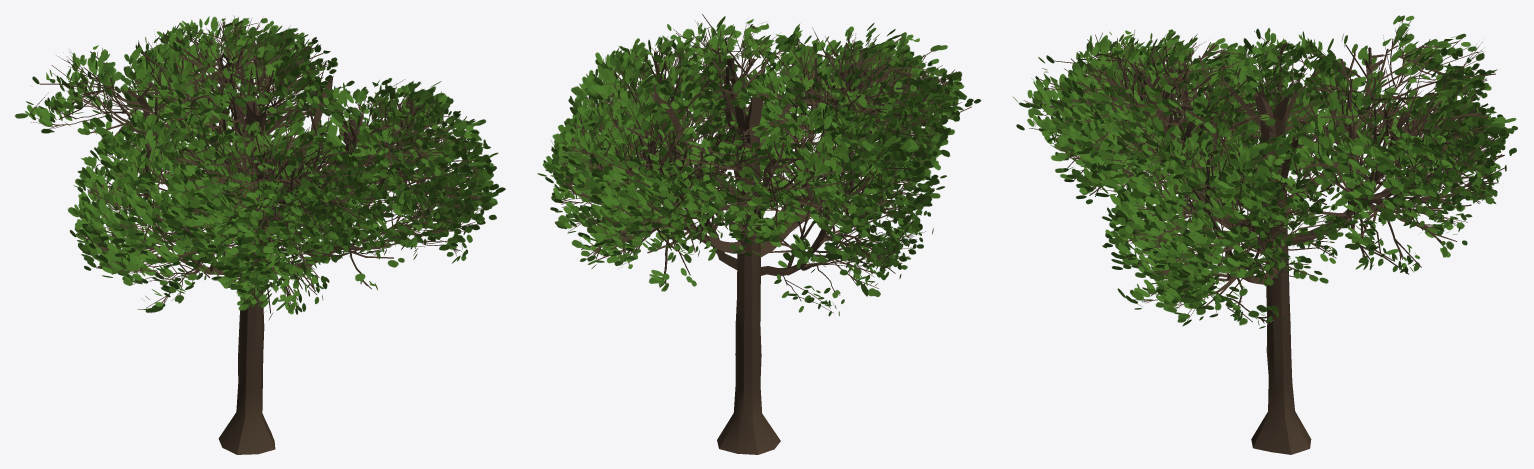
The picture shows the model from 3 angles, left to right: view 1: azimuth 30°, elevation 25°; view 2: azimuth 150°, elevation 25°; view 3: azimuth 270°, elevation 25°; orthographic projection. The views are drawn at different scales.
Visible parts, largest first — view 1: oak 01.001_trunk_Mat.001_0.063; view 2: oak 01.001_trunk_Mat.001_0.063; view 3: oak 01.001_trunk_Mat.001_0.063.
Boxes of the visible parts, bbox=[...] form: oak 01.001_trunk_Mat.001_0.063: bbox=[15, 15, 505, 454]; oak 01.001_trunk_Mat.001_0.063: bbox=[537, 14, 981, 454]; oak 01.001_trunk_Mat.001_0.063: bbox=[1012, 15, 1517, 454].
Size of the model in its own units: 6.19 by 5.38 by 6.75.
2 materials, 1 textured.
